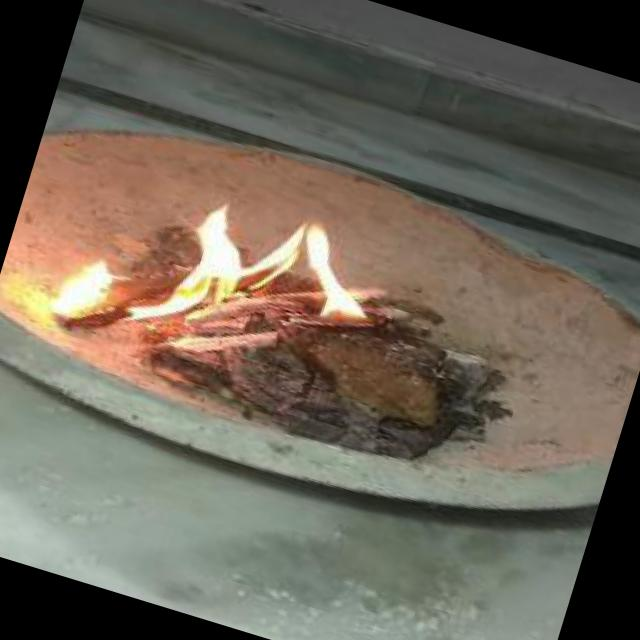fire: (5, 143, 412, 422)
